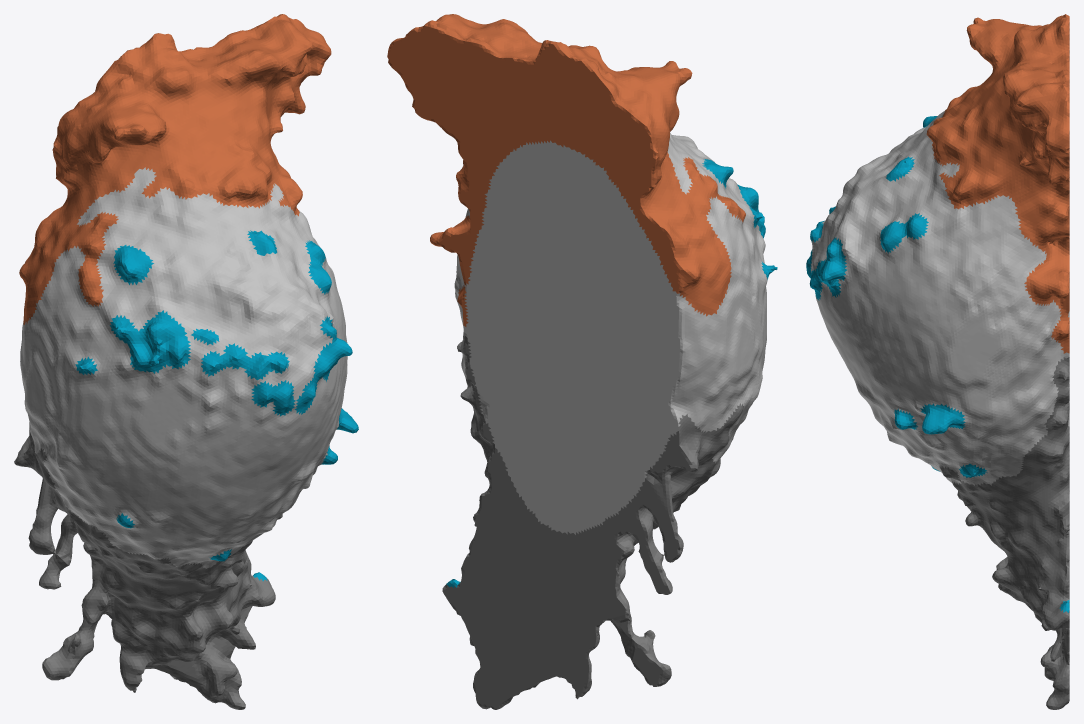
3 views of the same model, side by side, from view 1: azimuth 30°, elevation 25°; view 2: azimuth 150°, elevation 25°; view 3: azimuth 270°, elevation 25° (orthographic). The views are drawn at different scales.
Bounding box in the file's own units: 90.6 × 185 × 67.25.
